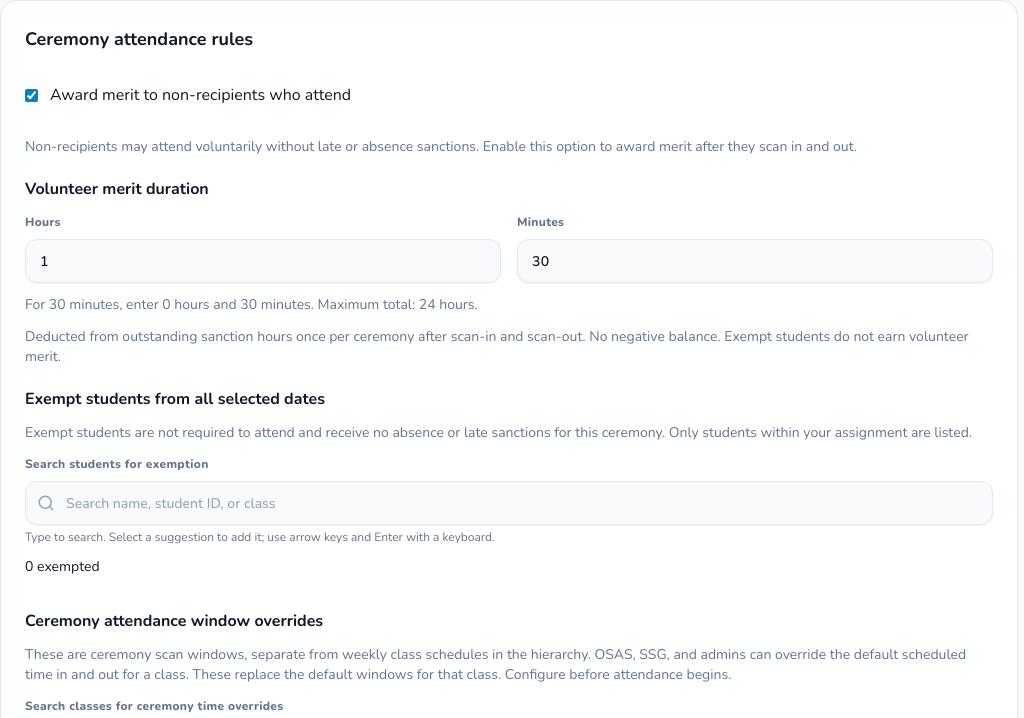
Test: converts volunteer hours and minutes to the saved amount and blocks invalid totals
Expected: the number field named "Volunteer merit minutes" holds "30", [517, 239, 993, 283]
Step 1. Replace the text in the number field named "Volunteer merit hours" with "0" → [263, 261], box [25, 239, 501, 283]
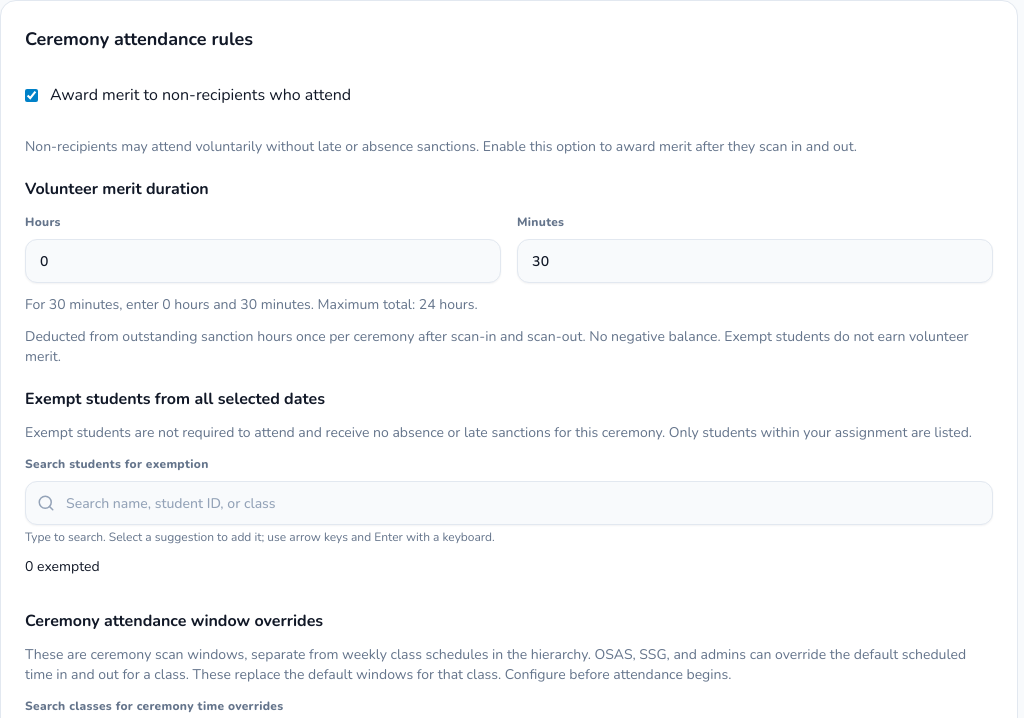
Step 2. Replace the text in the number field named "Volunteer merit minutes" with "45" → [755, 261], box [517, 239, 993, 283]
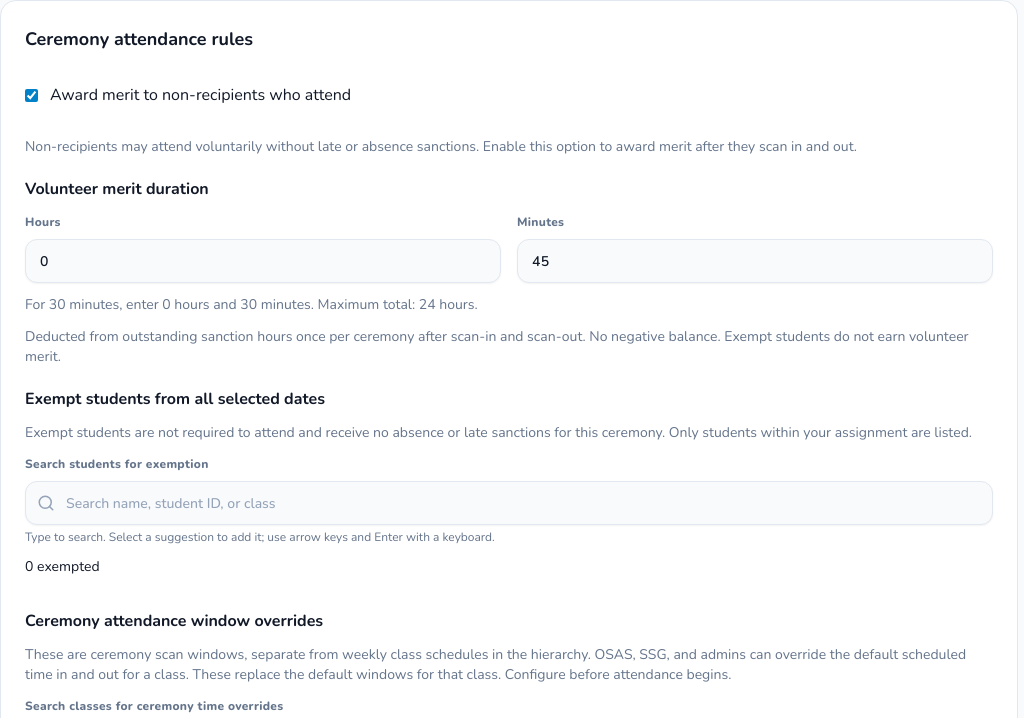
Step 3. Replace the text in the number field named "Volunteer merit hours" with "24" → [263, 261], box [25, 239, 501, 283]
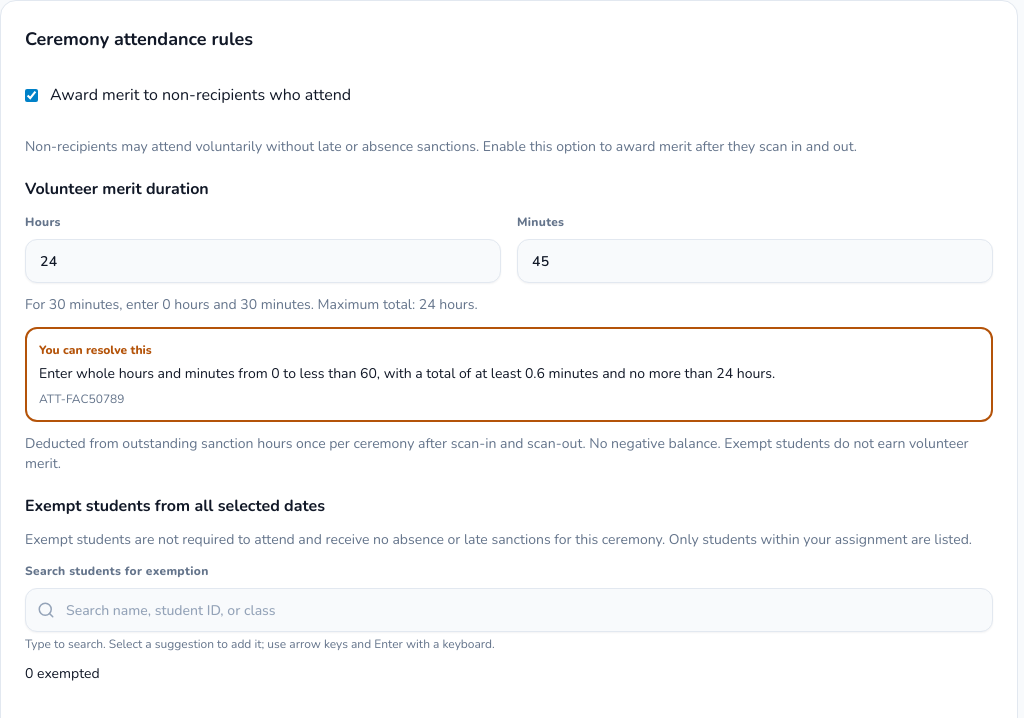
Expected: the message that starts with "You can resolve this" is shown, [25, 327, 993, 422]
Step 4. Replace the text in the number field named "Volunteer merit minutes" with "0" → [755, 261], box [517, 239, 993, 283]
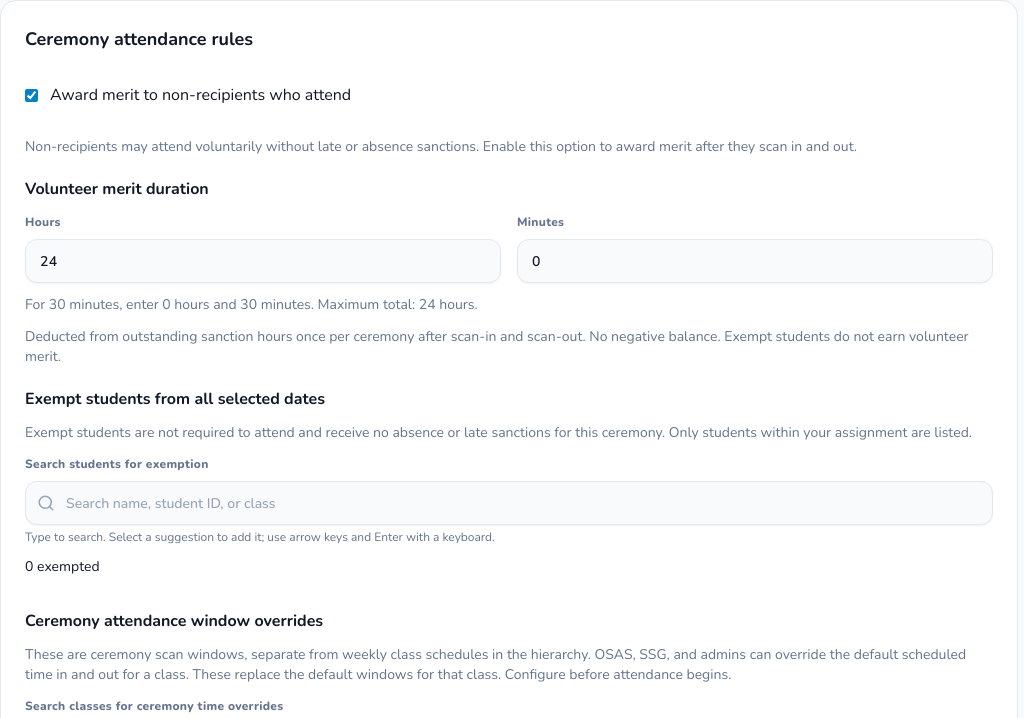
Step 5. Replace the text in the number field named "Volunteer merit minutes" with "60" → [755, 261], box [517, 239, 993, 283]
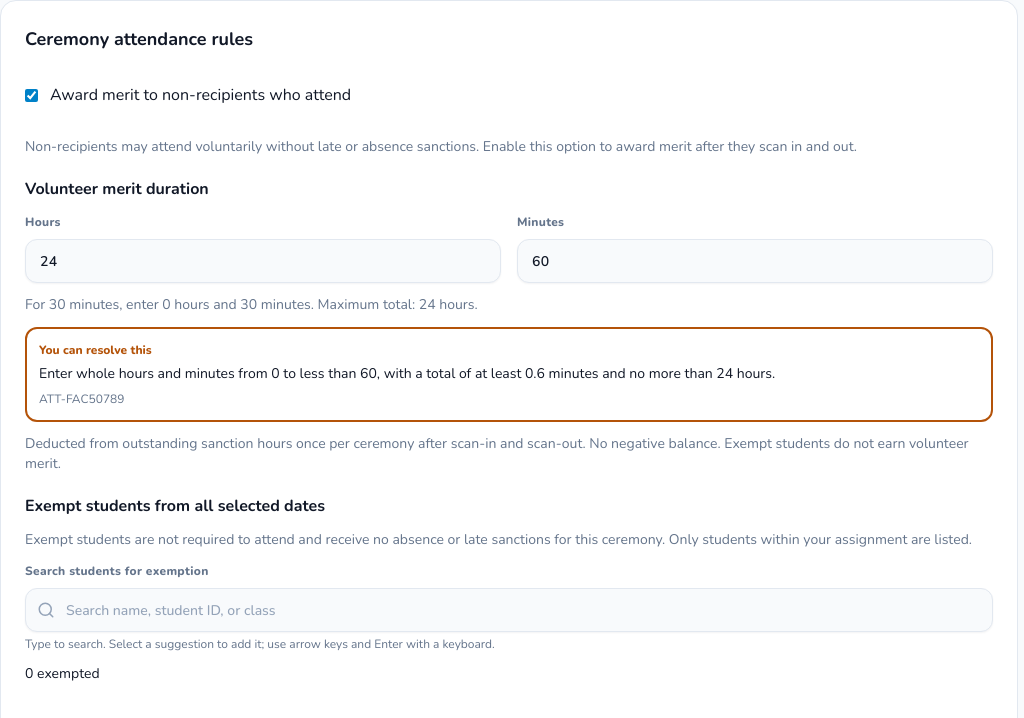
Expected: the message that starts with "You can resolve this" is shown, [25, 327, 993, 422]
